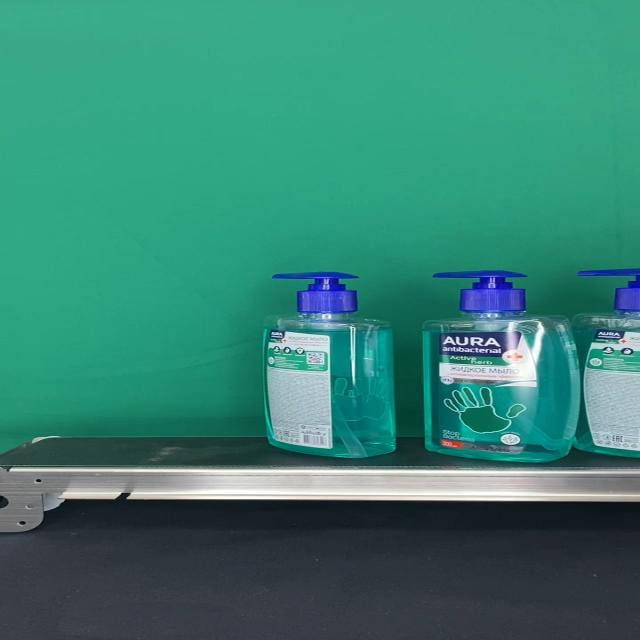Bottle: (422, 270, 580, 462), (261, 272, 396, 458)
Cap: (433, 270, 527, 313), (272, 272, 358, 313)
